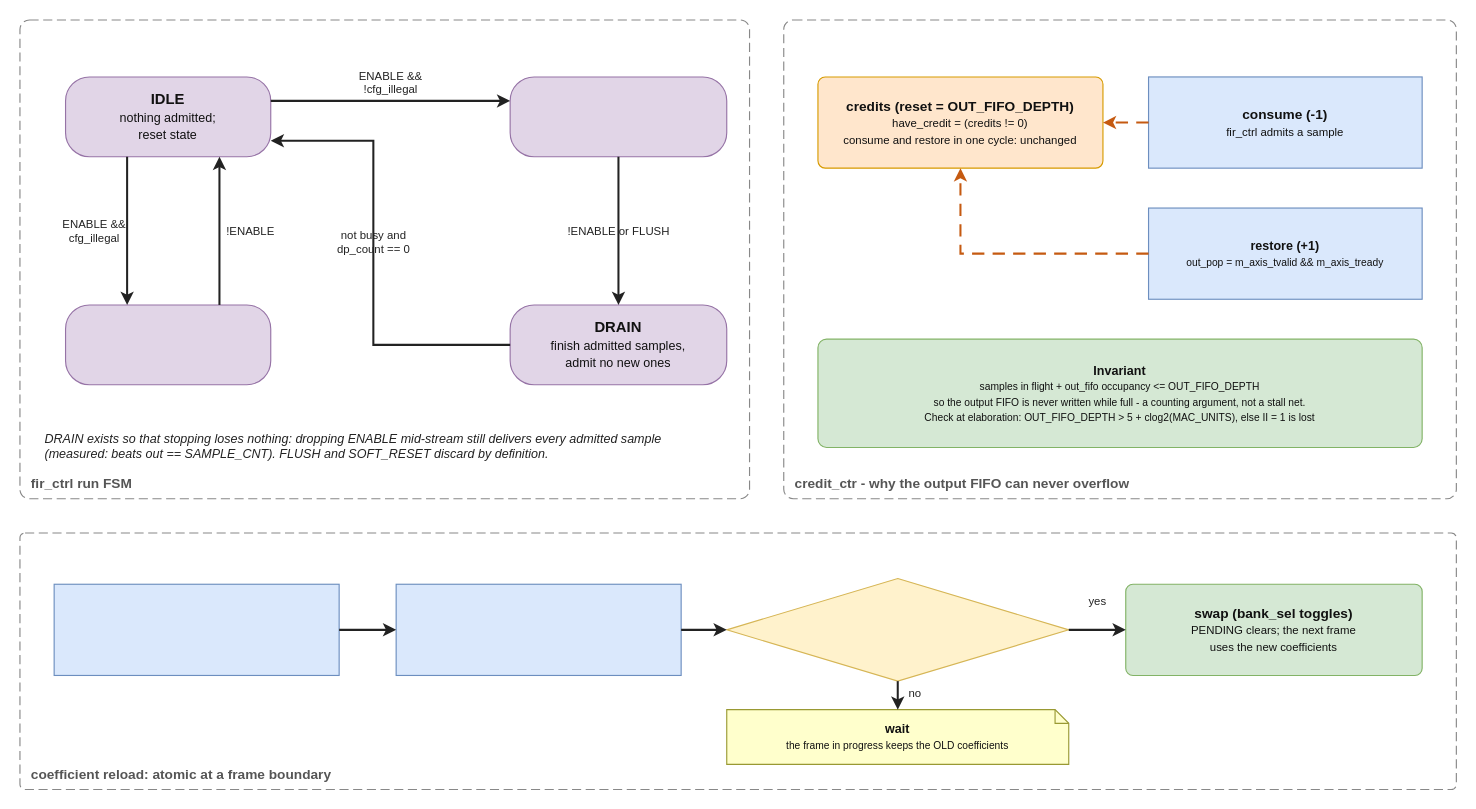
The diagram is 1476 pixels wide and 809 high, and some of its shapes have lost their labels. Here are the shapes that lost their labels. From the top down, the centre of each, then its label:
At (618,116): "RUN admit while credit and data are available".
At (167,344): "CFGERR illegal CFG enabled; sticky CFG_ERR, irq".
At (196,629): "write COEFF[i] AXI4-Lite, lands in the SHADOW bank".
At (538,629): "CTRL.COEFF_COMMIT STATUS.COEFF_PENDING = 1".
At (897,629): "frame_boundary || idle ? boundary = a TLAST beat has LEFT the IP (output pop)".
